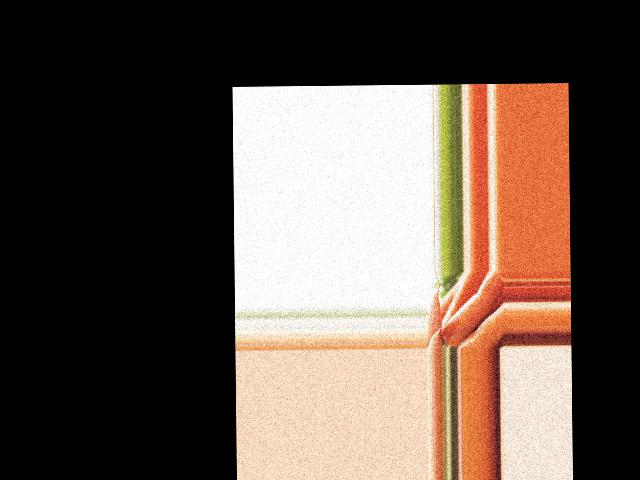carrot: (436, 278, 479, 330)
